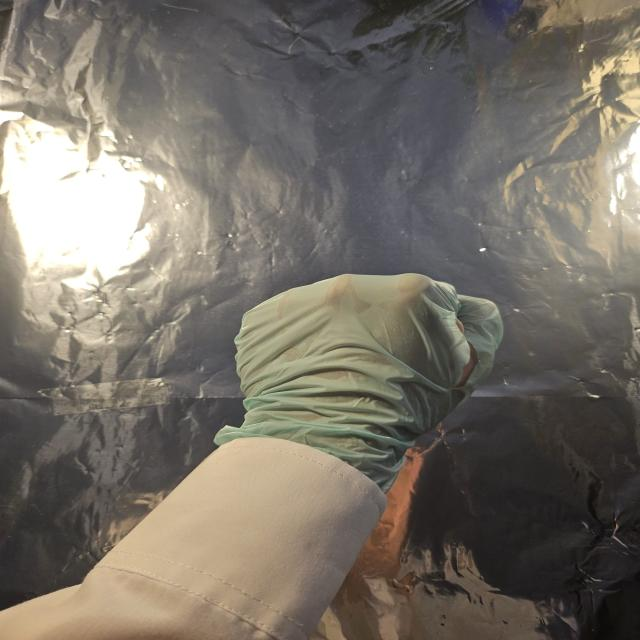gloves_damaged: (218, 271, 501, 493)
